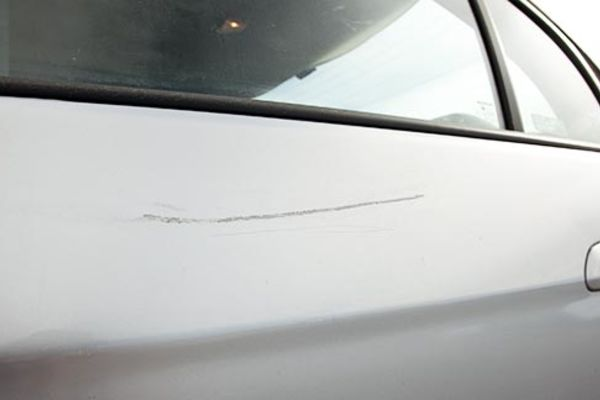scratch: (130, 188, 435, 227)
